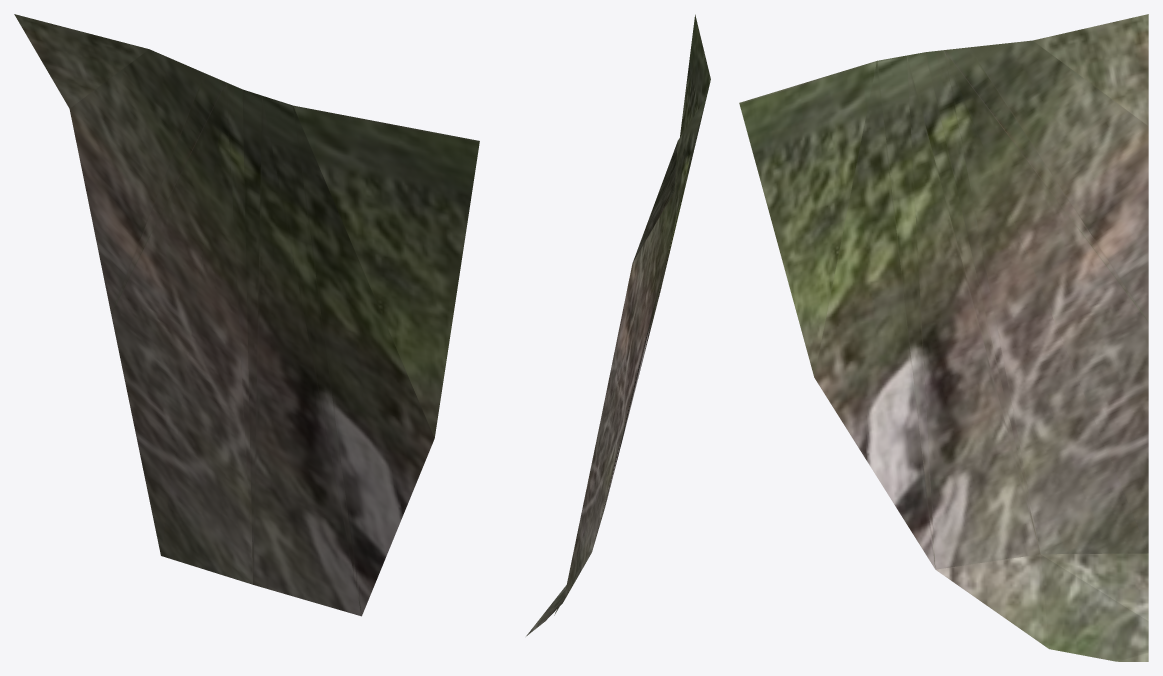
3 views of the same model, side by side, from view 1: azimuth 30°, elevation 25°; view 2: azimuth 150°, elevation 25°; view 3: azimuth 270°, elevation 25° (orthographic). The views are drawn at different scales.
Size of the model in its own units: 1.97 by 5.79 by 3.85.
2 materials, 2 textured.
